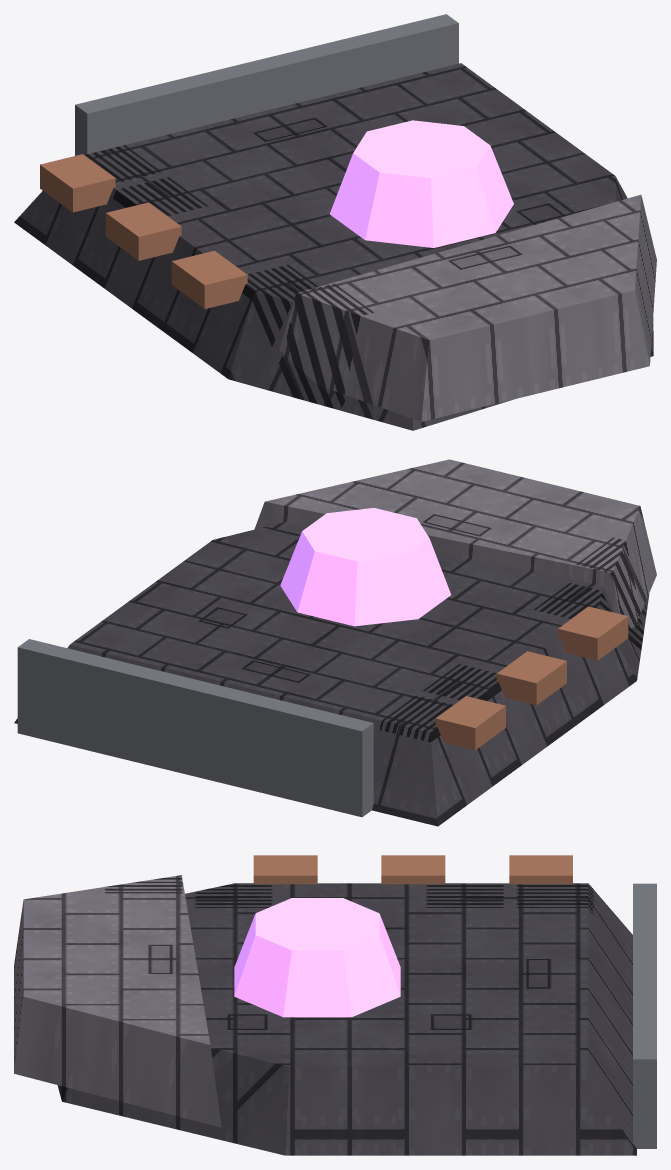
Rendered from twin_iris.glb.
3 renders of one model, top to bottom at view 1: azimuth 30°, elevation 25°; view 2: azimuth 150°, elevation 25°; view 3: azimuth 270°, elevation 25°, orthographic. The views are drawn at different scales.
Size of the model in its own units: 32.5 by 9 by 40.25.
5 materials, 2 textured.
